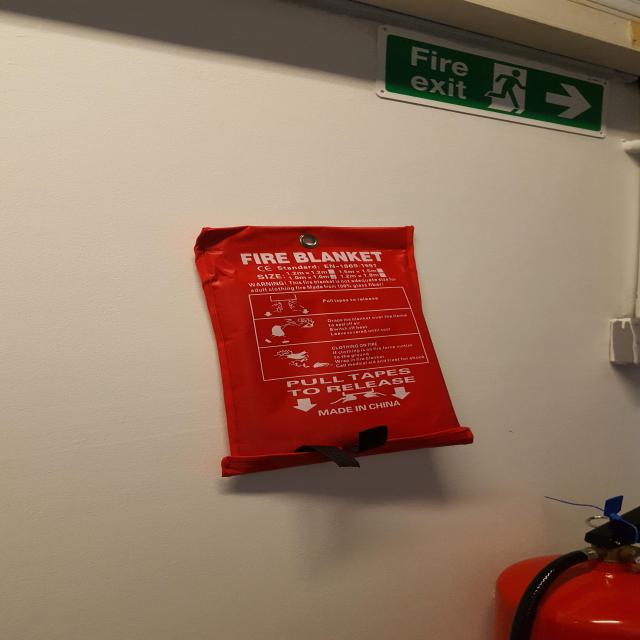fire_extinguisher: (478, 493, 640, 640)
